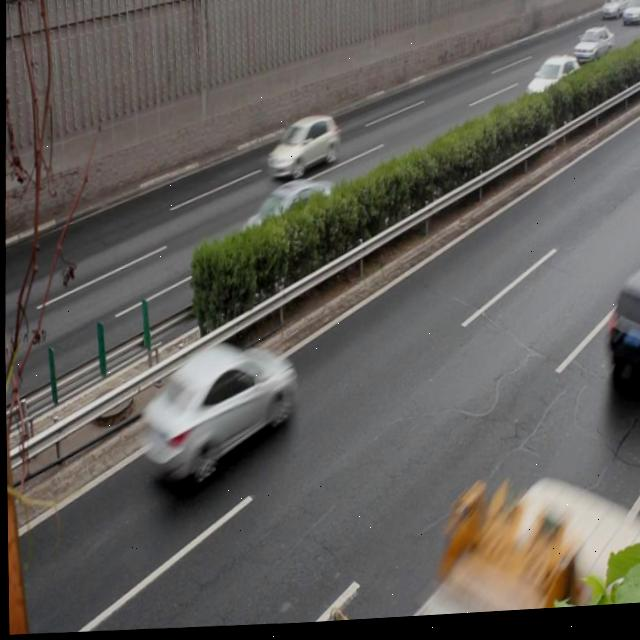bus: (389, 483, 632, 622)
car: (134, 342, 293, 488), (236, 182, 336, 271), (267, 117, 337, 186), (521, 61, 580, 119)
